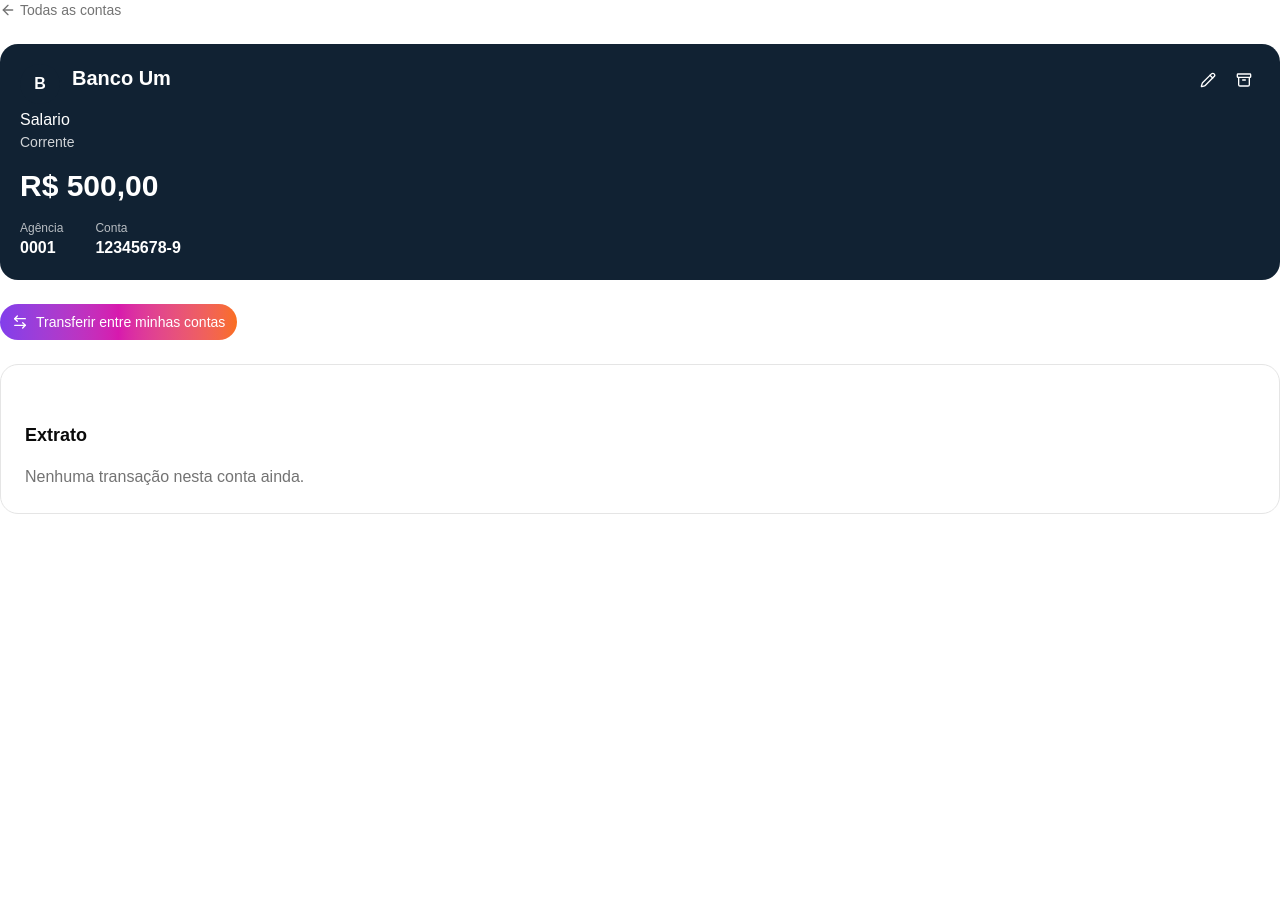
Test case: detalhe da conta › encerrar conta com saldo mostra a mensagem de saldo
The width and height of the screenshot is (1280, 900).
What coordinates should you click on to do the following:
click the button named "Encerrar conta"
I would click on:
 (1244, 80)
Its box is [1228,64,1260,96].
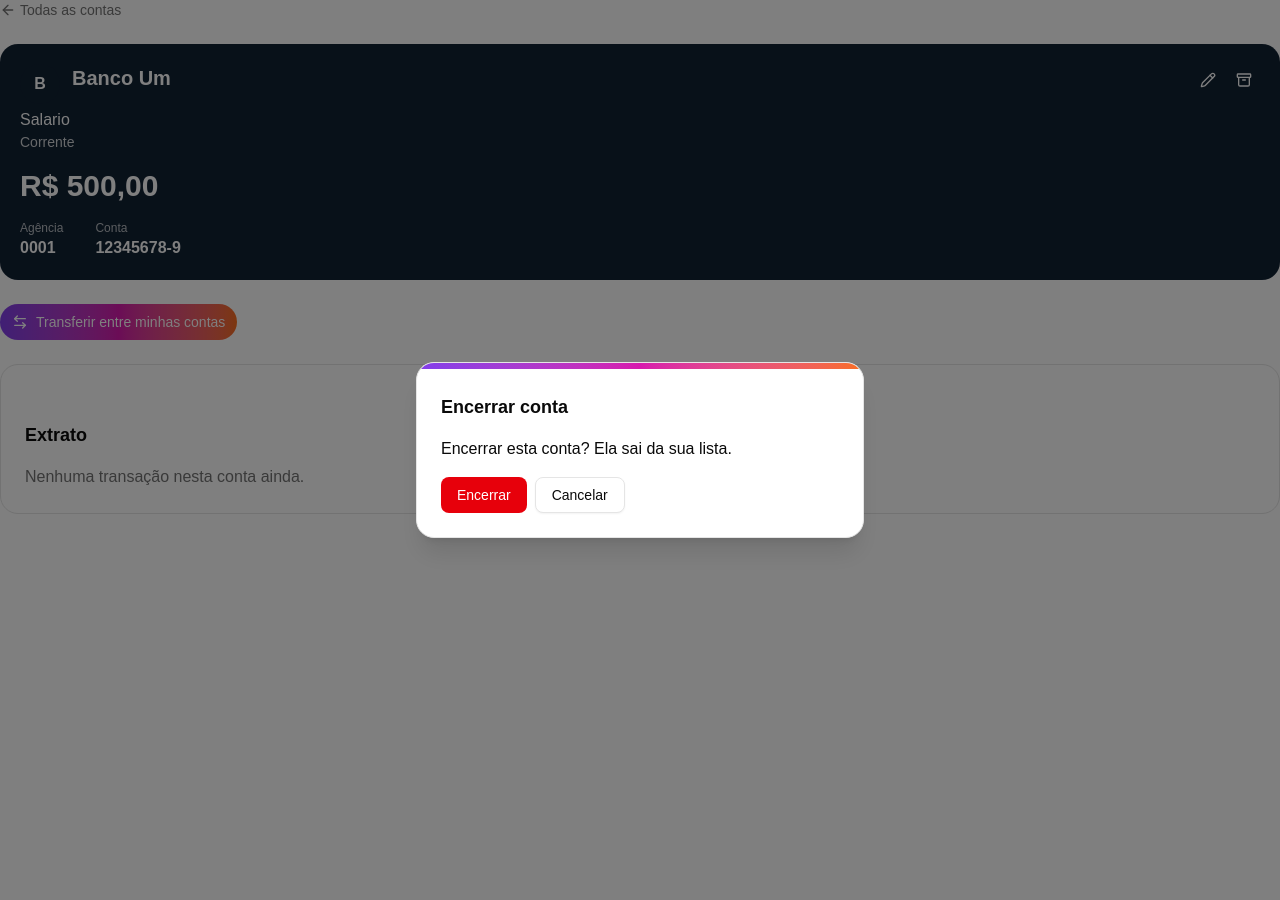
What coordinates should you click on to do the following:
click the button "Encerrar"
I would click on:
 (484, 495)
Its box is [441,477,527,513].
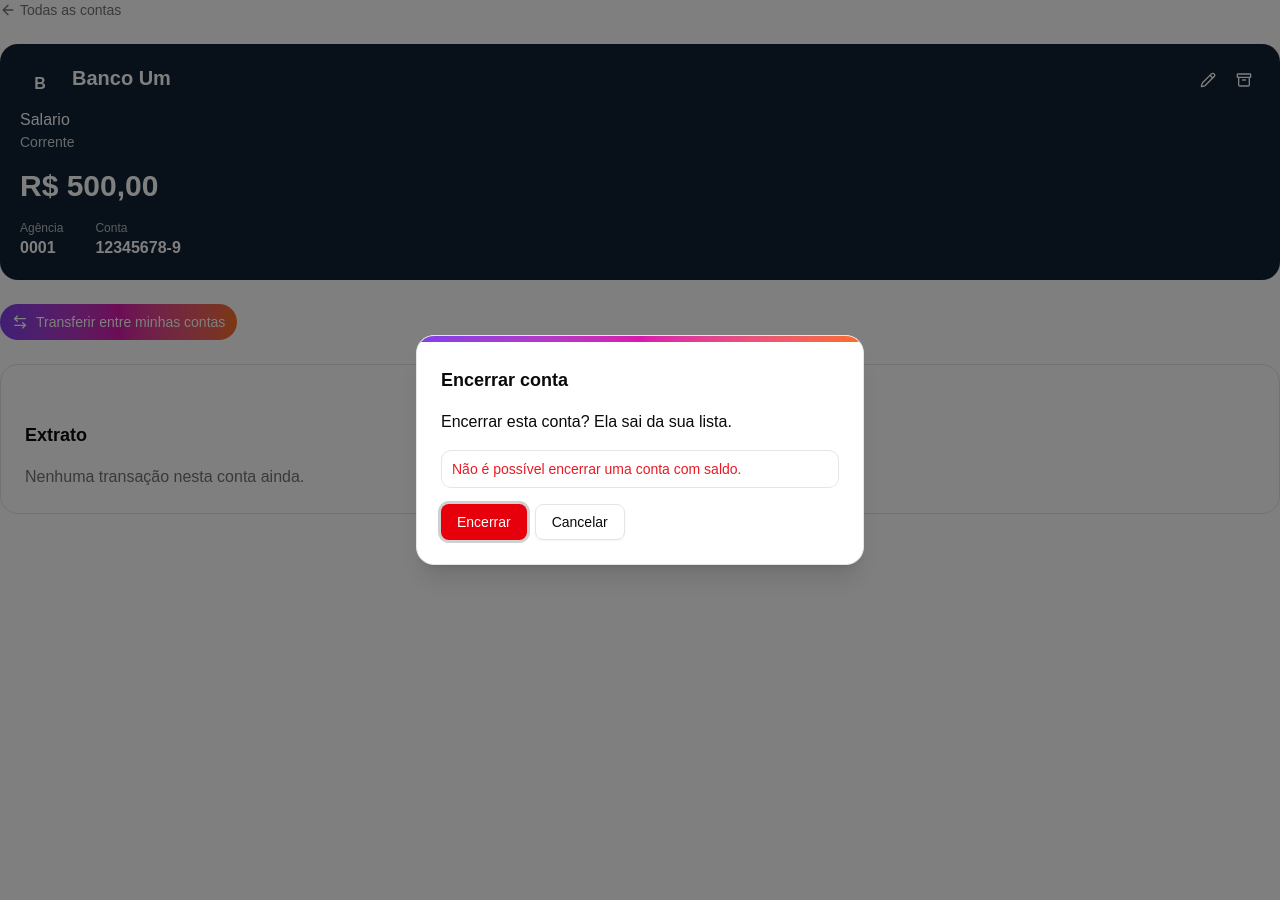
Now the message reads "Não é possível encerrar uma conta com saldo.", box [452,461,742,477]
